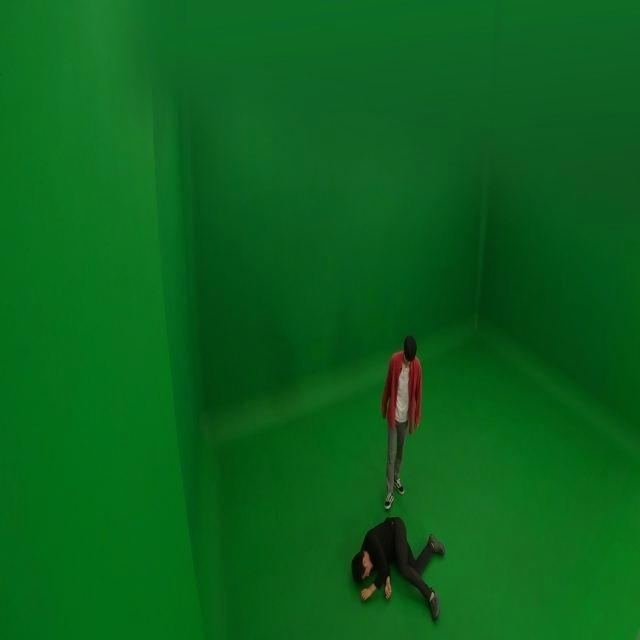fight: (344, 337, 447, 623)
